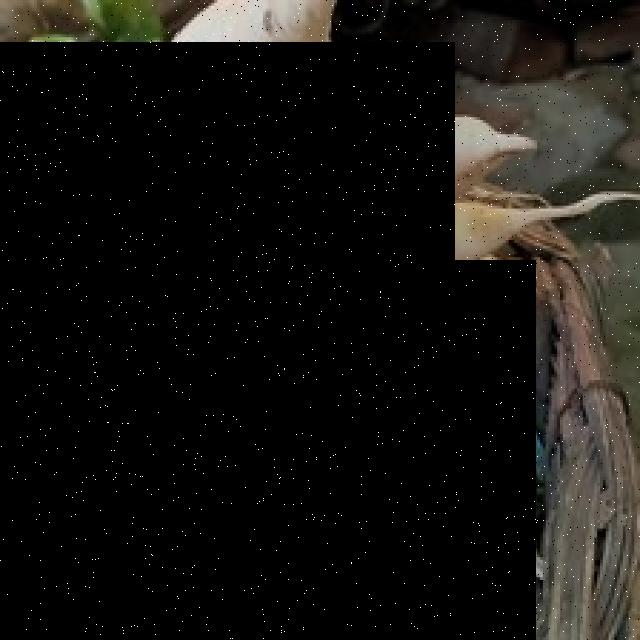Radish: (0, 260, 536, 640), (0, 42, 455, 274)
